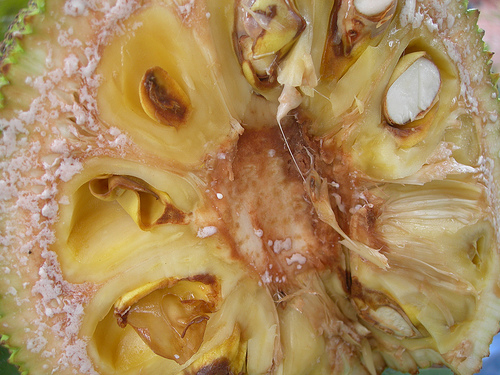jackfruit: (1, 3, 499, 374)
